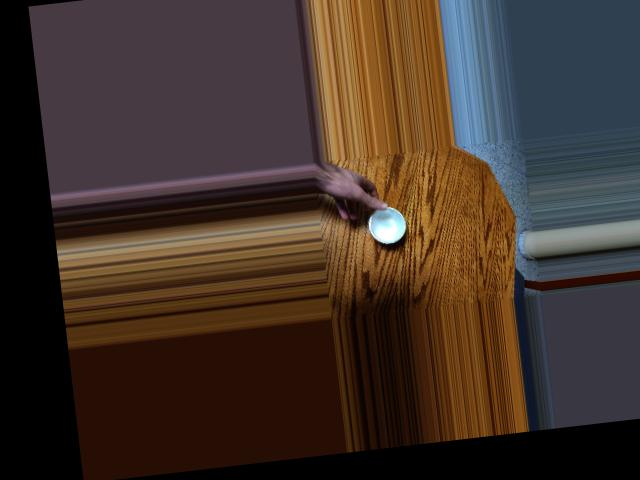cotage: (361, 197, 412, 248)
